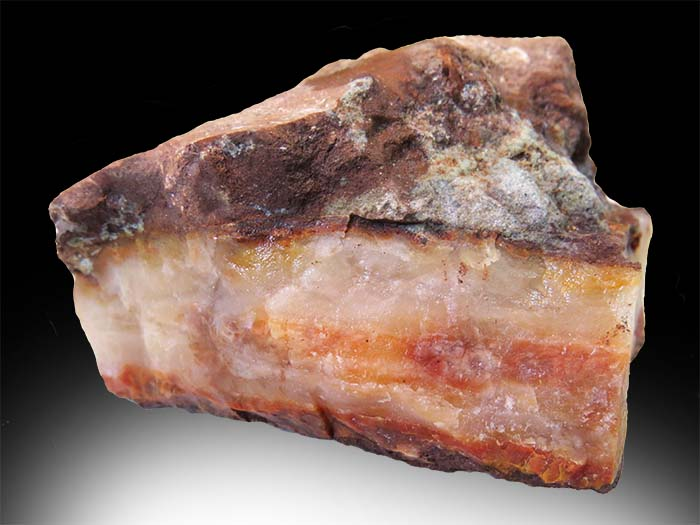bacon: (57, 33, 659, 469)
